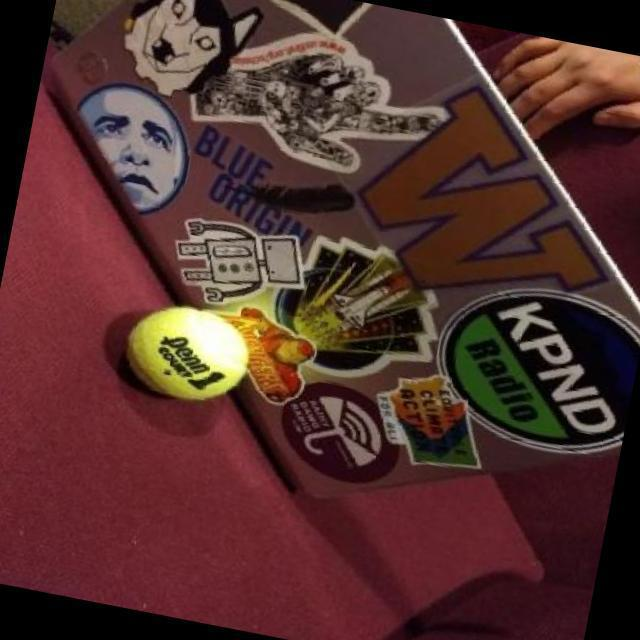-: (68, 250, 299, 431)
